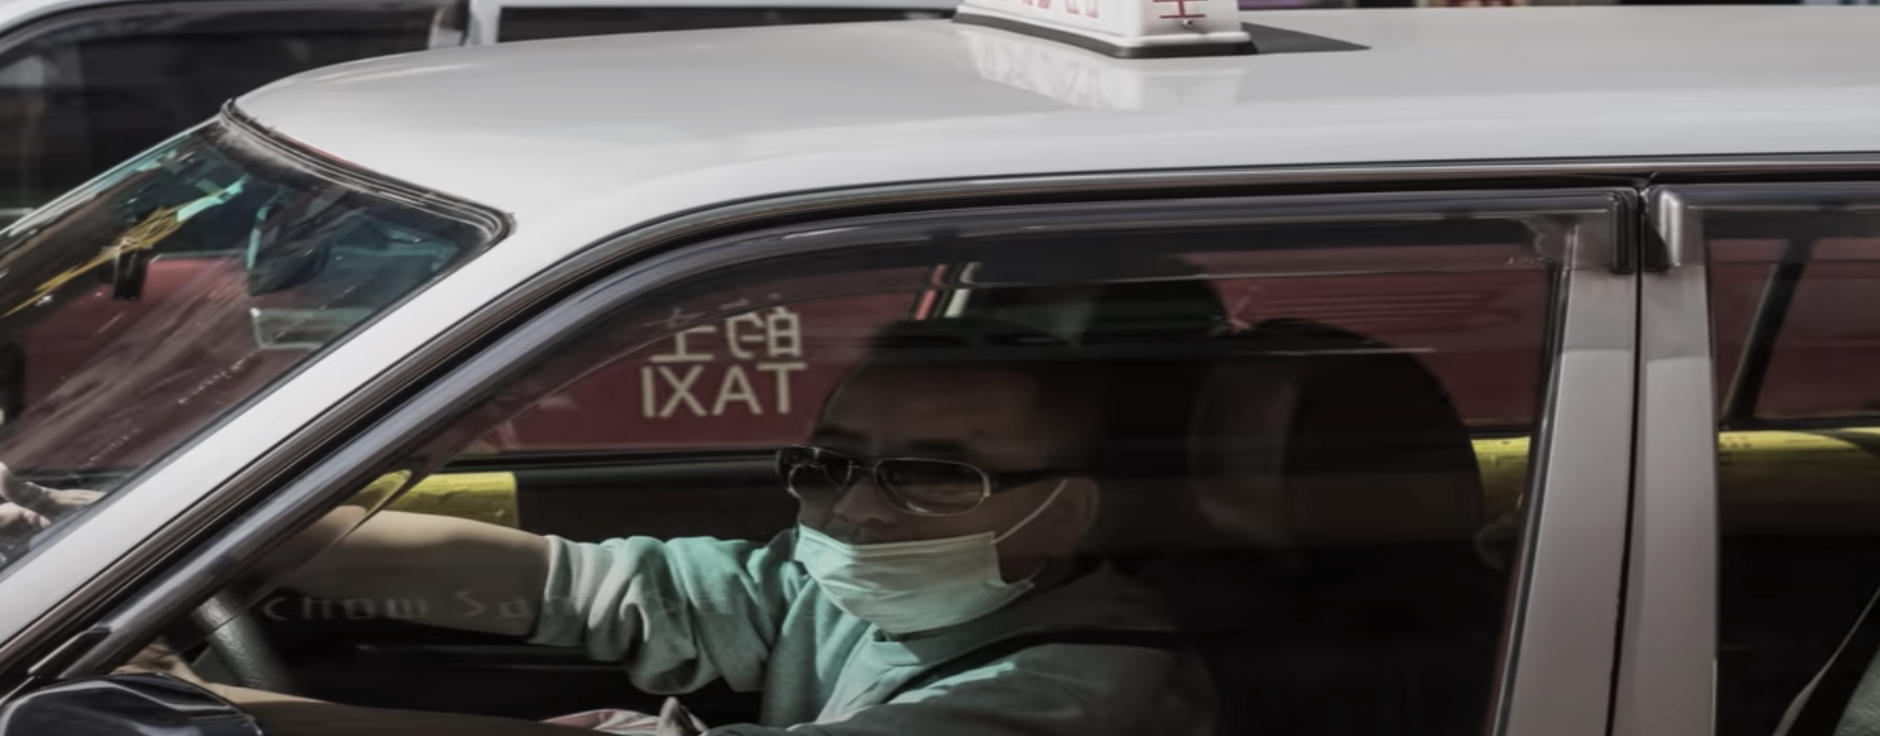mask_weared_incorrect: (782, 322, 1137, 639)
